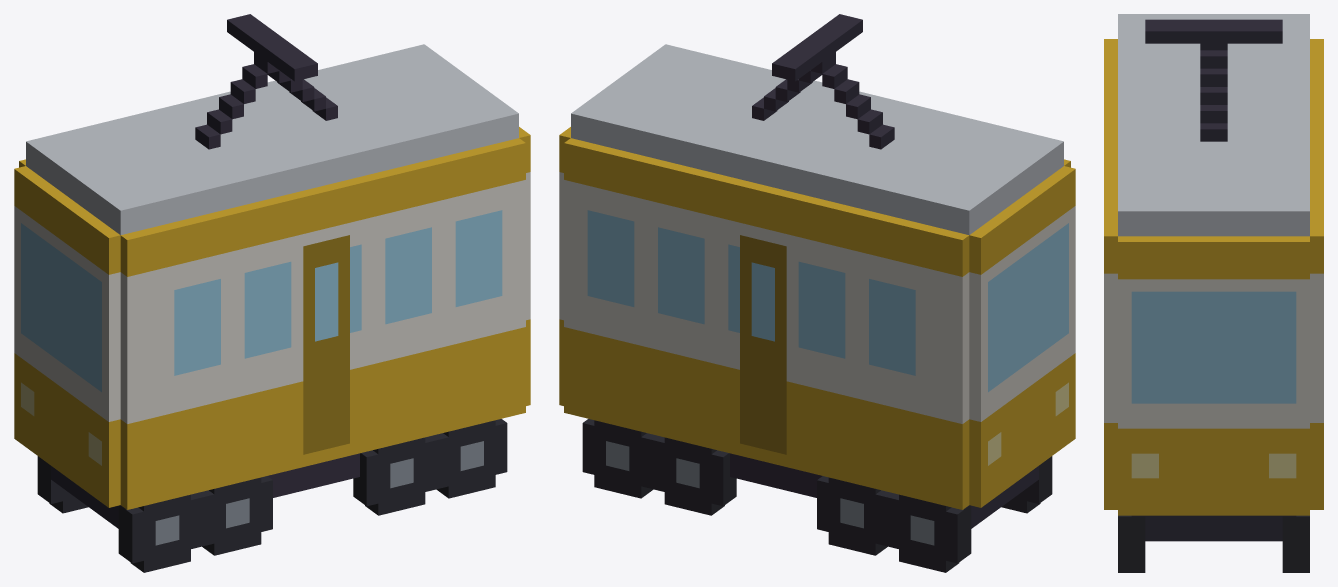
Rendered from railway-yellow.glb.
3 views of the same model, side by side, from view 1: azimuth 30°, elevation 25°; view 2: azimuth 150°, elevation 25°; view 3: azimuth 270°, elevation 25° (orthographic).
Parts seen in each view (by area): view 1: prop; view 2: prop; view 3: prop.
Boxes of the visible parts, x1=… form: prop: x1=14, y1=14, x2=530, y2=572; prop: x1=559, y1=14, x2=1075, y2=572; prop: x1=1104, y1=14, x2=1323, y2=572.
Bounding box in the file's own units: 15.57 × 16 × 6.92.
